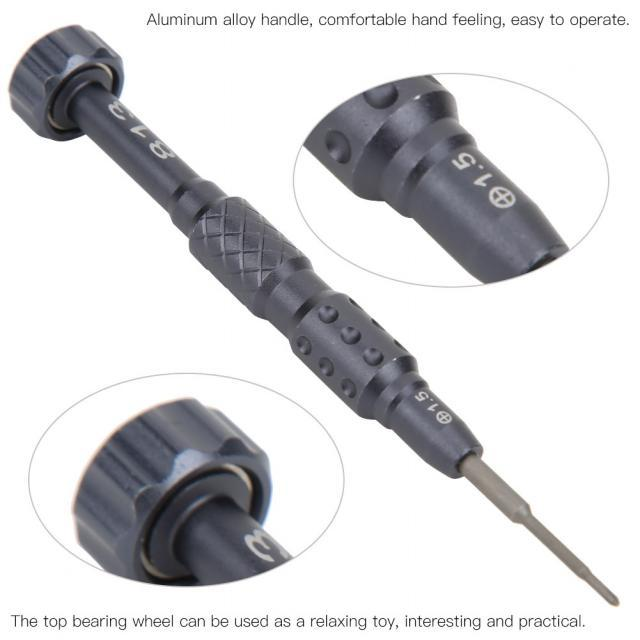screwdriver: (4, 19, 632, 616)
